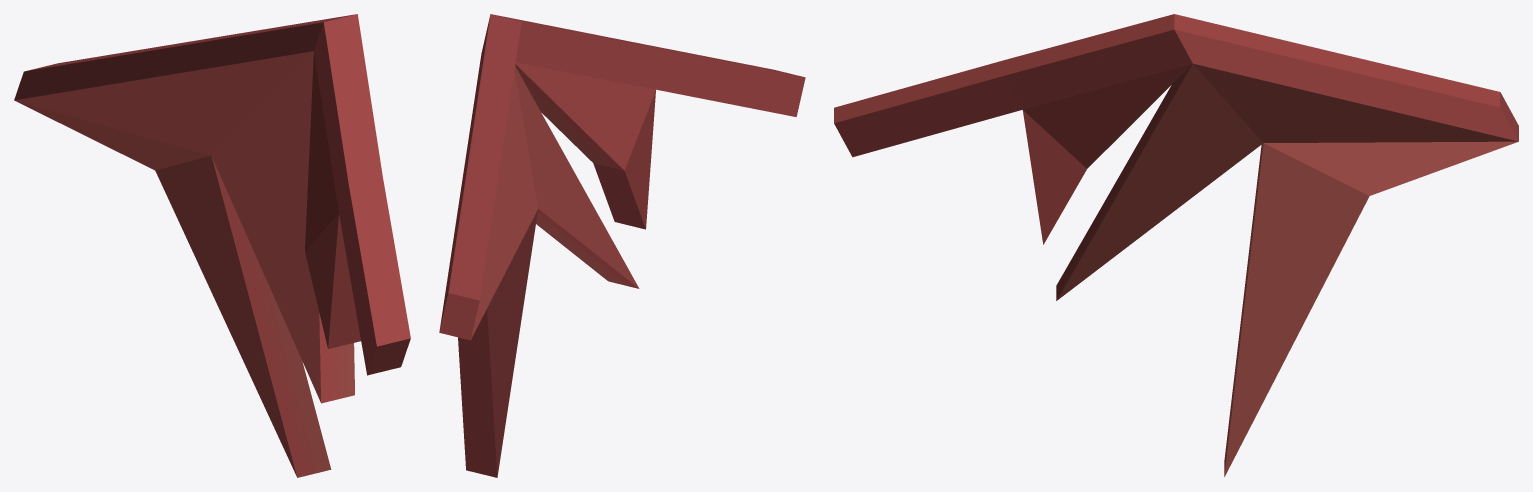
Rendered from wingR.obj.
3 renders of one model, left to right at view 1: azimuth 30°, elevation 25°; view 2: azimuth 150°, elevation 25°; view 3: azimuth 270°, elevation 25°, orthographic. The views are drawn at different scales.
Parts seen in each view (by area): view 1: 立方体.008_立方体; view 2: 立方体.008_立方体; view 3: 立方体.008_立方体.
Boxes of the visible parts, x1,y1,x2,y2 form: 立方体.008_立方体: (14, 14, 410, 477); 立方体.008_立方体: (439, 14, 805, 477); 立方体.008_立方体: (834, 14, 1518, 476).
Bounding box in the file's own units: 0.2769 × 0.7799 × 1.08.
Materials: 1 (1 with a texture image).
